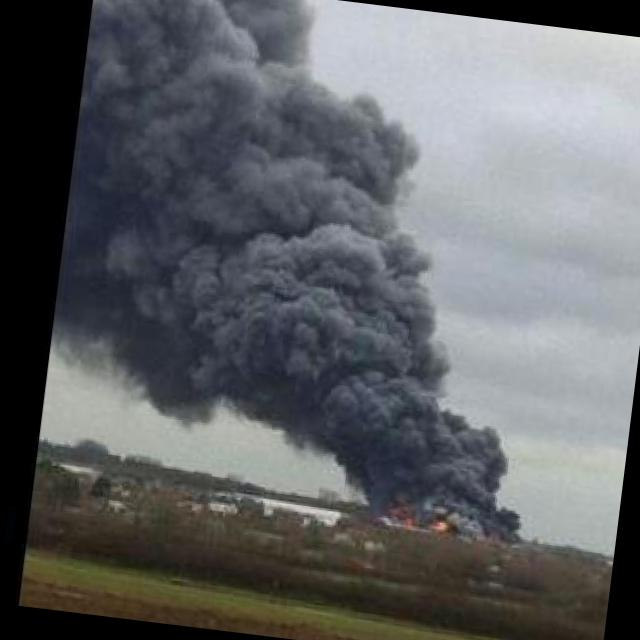fire: (429, 516, 446, 530)
smoke: (46, 0, 470, 425), (264, 301, 533, 521)
